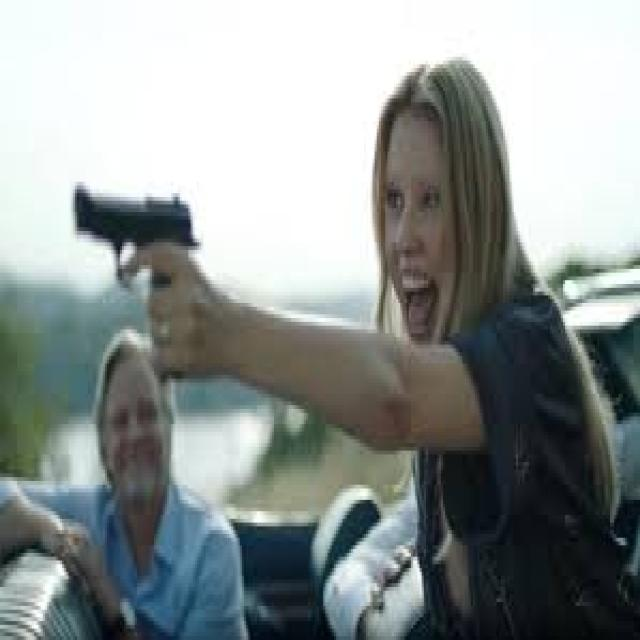weapons: (62, 157, 220, 360)
